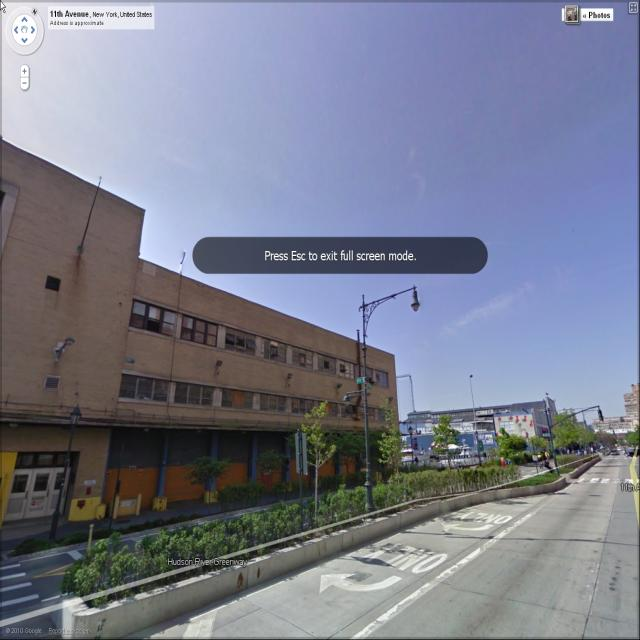b_1: (0, 129, 398, 448), (407, 400, 561, 448), (586, 412, 640, 447), (621, 370, 640, 415)
